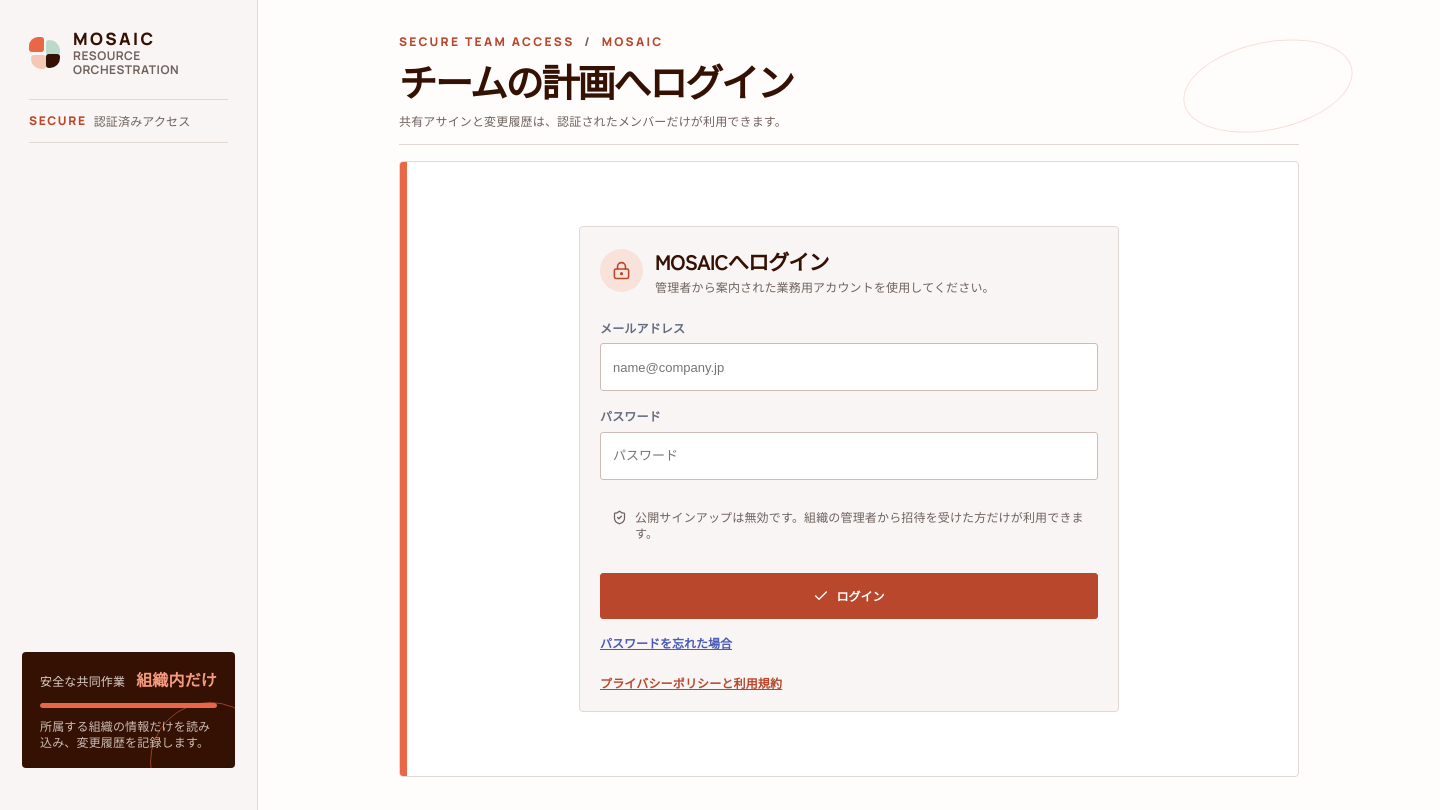
Test: AuthScreen password recovery › lets a visitor request a reset email and always shows the same sent message
Click the button "パスワードを忘れた場合" at (666, 643), box [600,623,732,663]
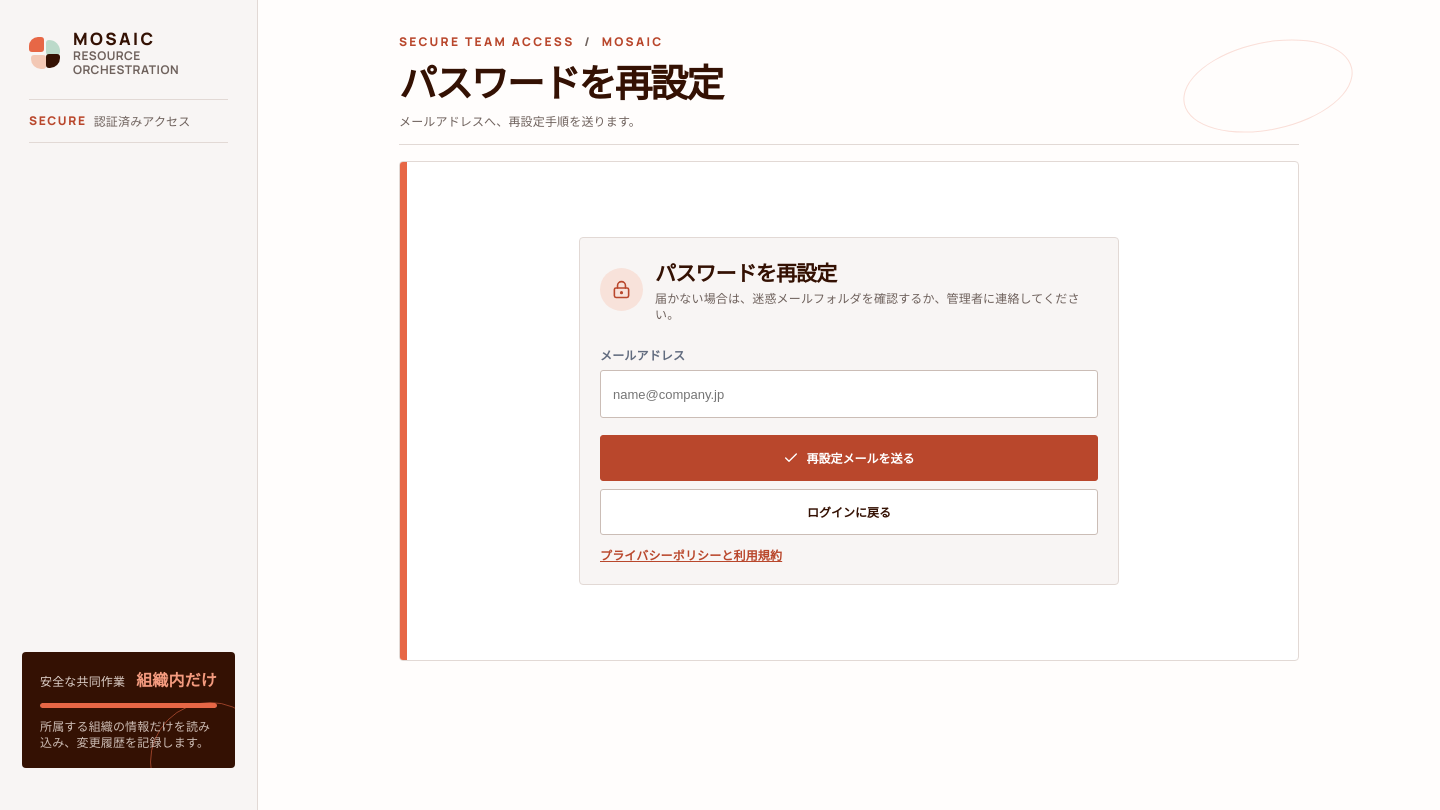
Type "unknown@example.jp" into the field labelled "メールアドレス" at (849, 394), box [600,370,1098,418]
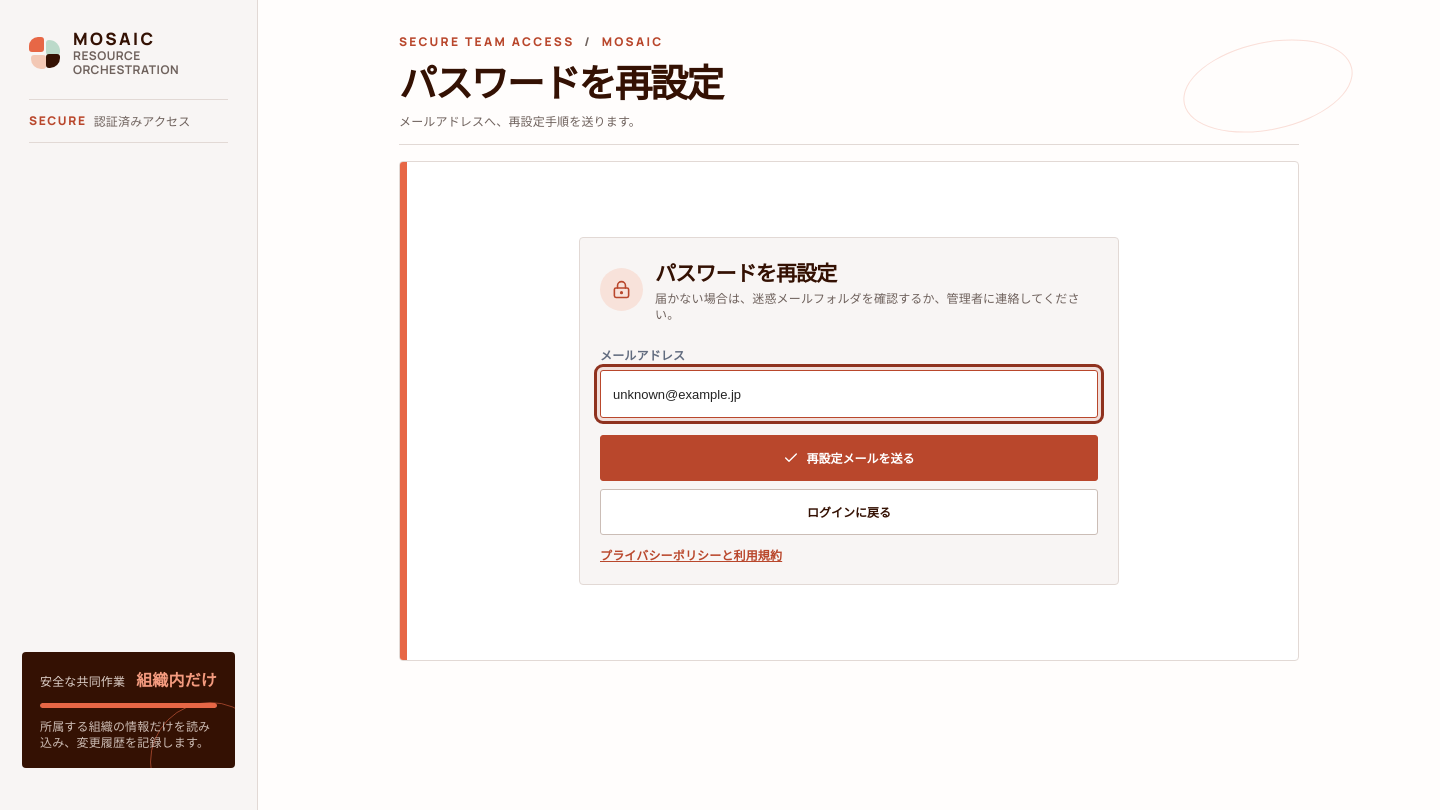
Click the button "再設定メールを送る" at (849, 458), box [600,436,1098,482]
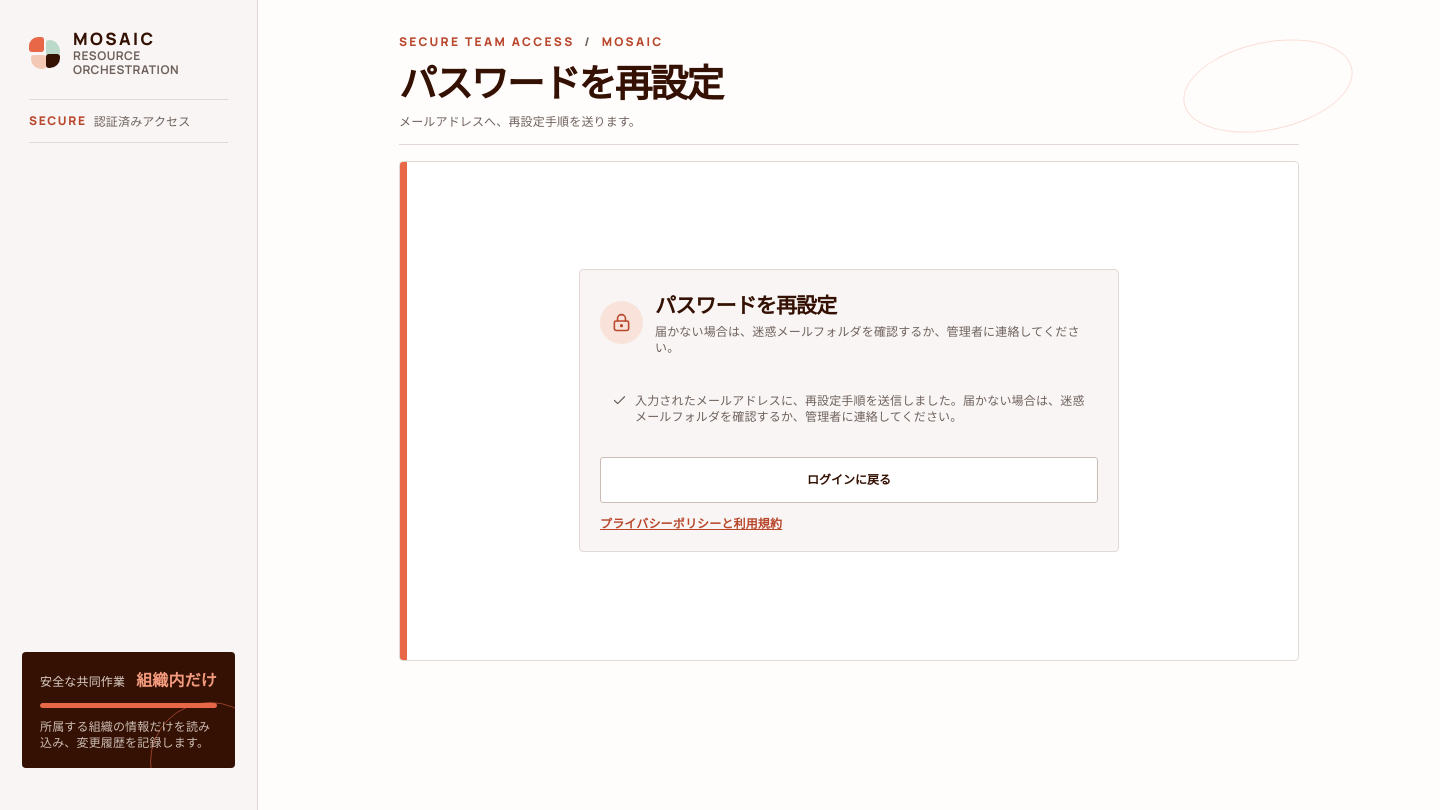
Expected: the message shows "再設定手順を送信しました", [635,391,1085,424]
